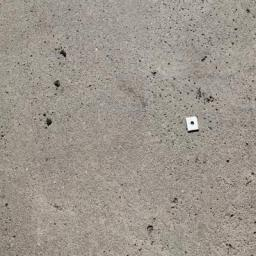FOD: (182, 116, 204, 135)
